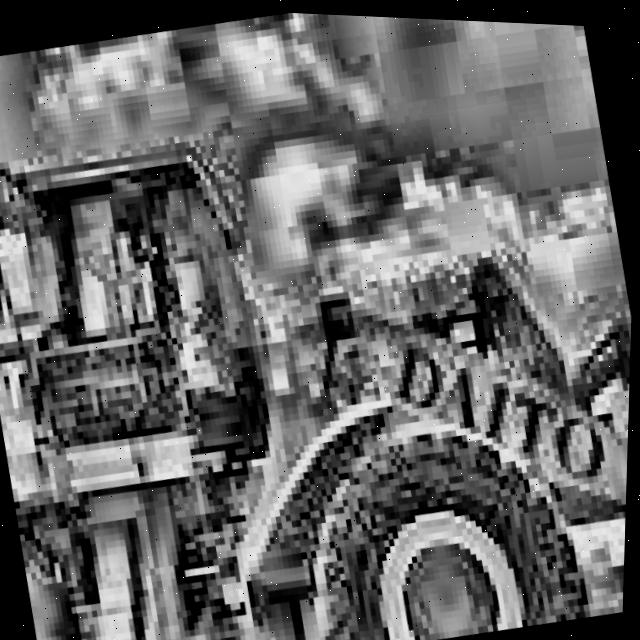buldozerpayloadergrader: (0, 29, 639, 640)
